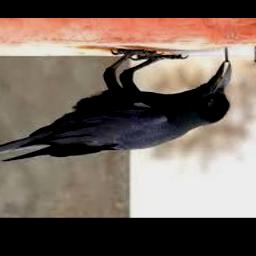Crow: (0, 48, 231, 163)
